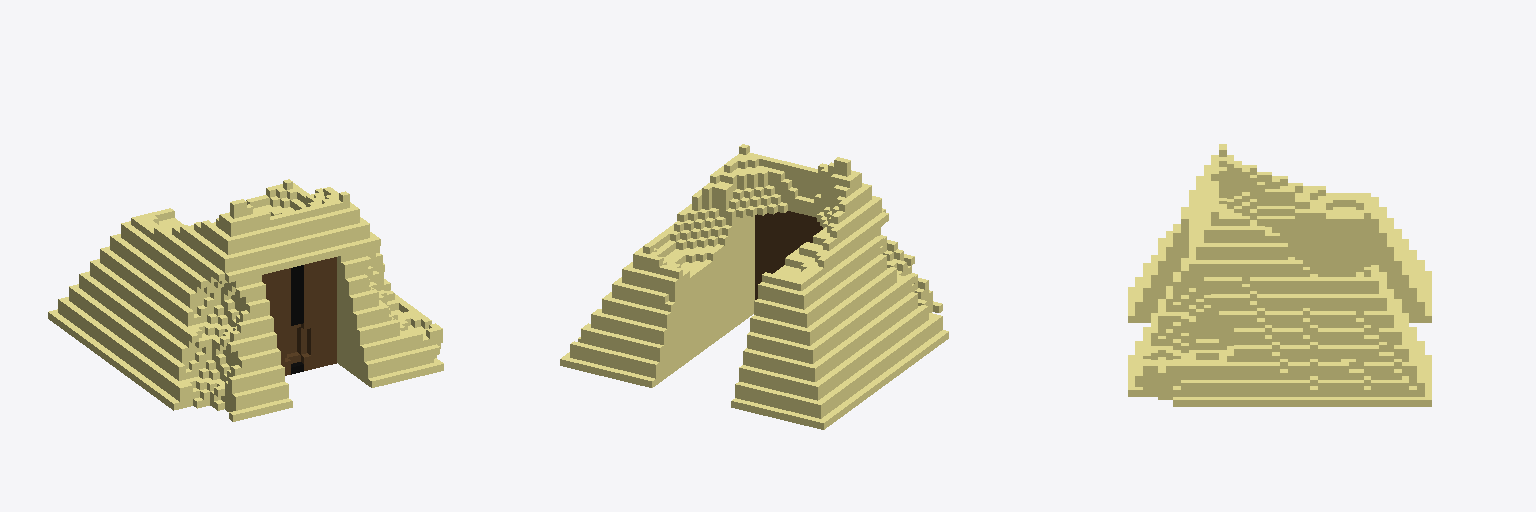
3 renders of one model, left to right at view 1: azimuth 30°, elevation 25°; view 2: azimuth 150°, elevation 25°; view 3: azimuth 270°, elevation 25°, orthographic.
Parts seen in each view (by area): view 1: object 1; view 2: object 1; view 3: object 1.
Boxes of the visible parts, x1=… form: object 1: x1=48, y1=179, x2=443, y2=421; object 1: x1=560, y1=144, x2=948, y2=429; object 1: x1=1128, y1=144, x2=1431, y2=406.
Bounding box in the file's own units: 4 × 2.5 × 4.
Materials: 1 (1 with a texture image).